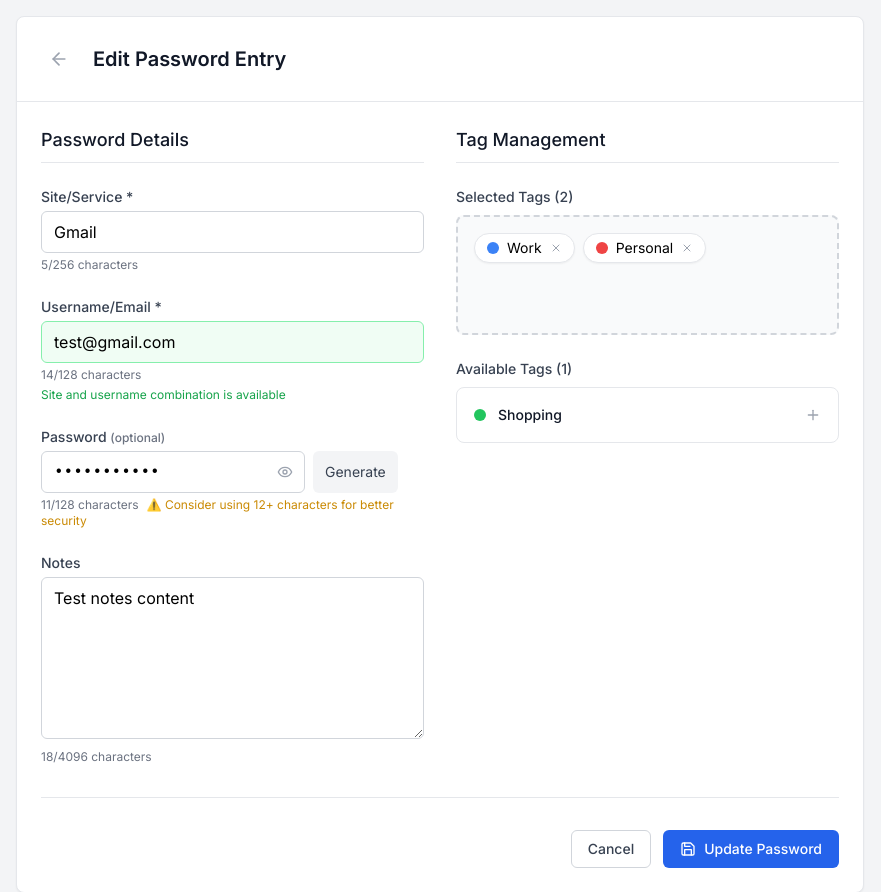
PasswordEdit Component › should allow removing selected tags
expect the text "Selected Tags (2)" is shown: met, box [456,188,573,205]
Click the button without text next to "Work": (556, 248) [550,242,562,254]
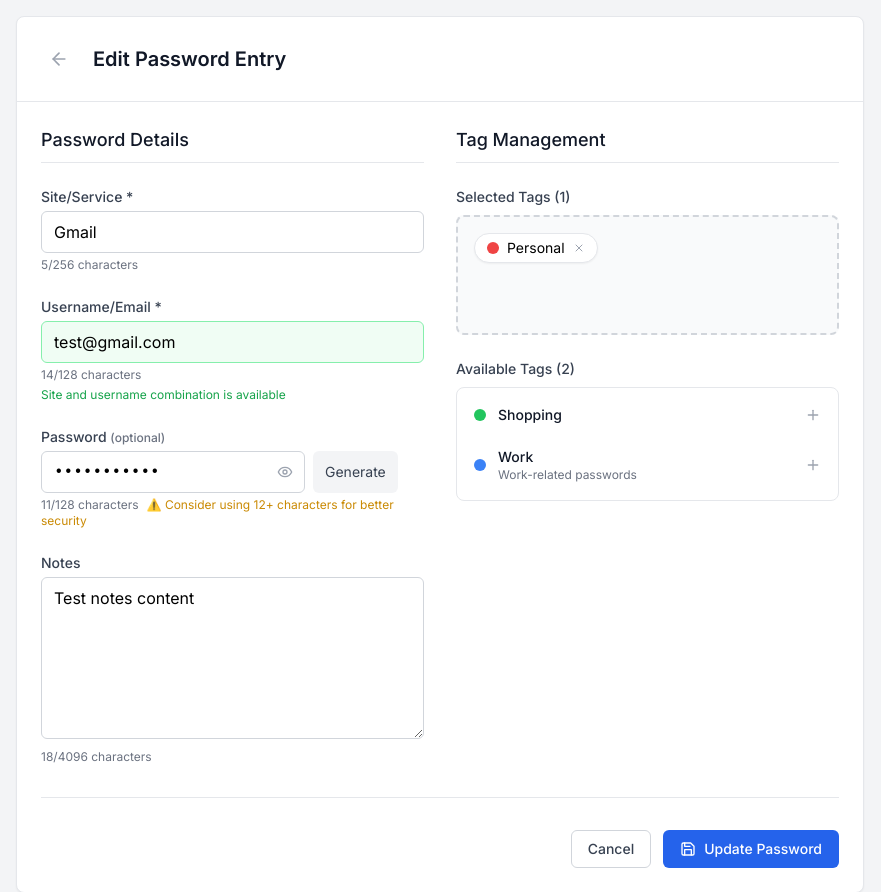
expect the text "Selected Tags (1)" is shown: met, box [456,188,570,205]
expect the text "Available Tags (2)" is shown: met, box [456,360,575,377]
